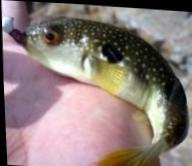fish: (24, 16, 186, 166)
